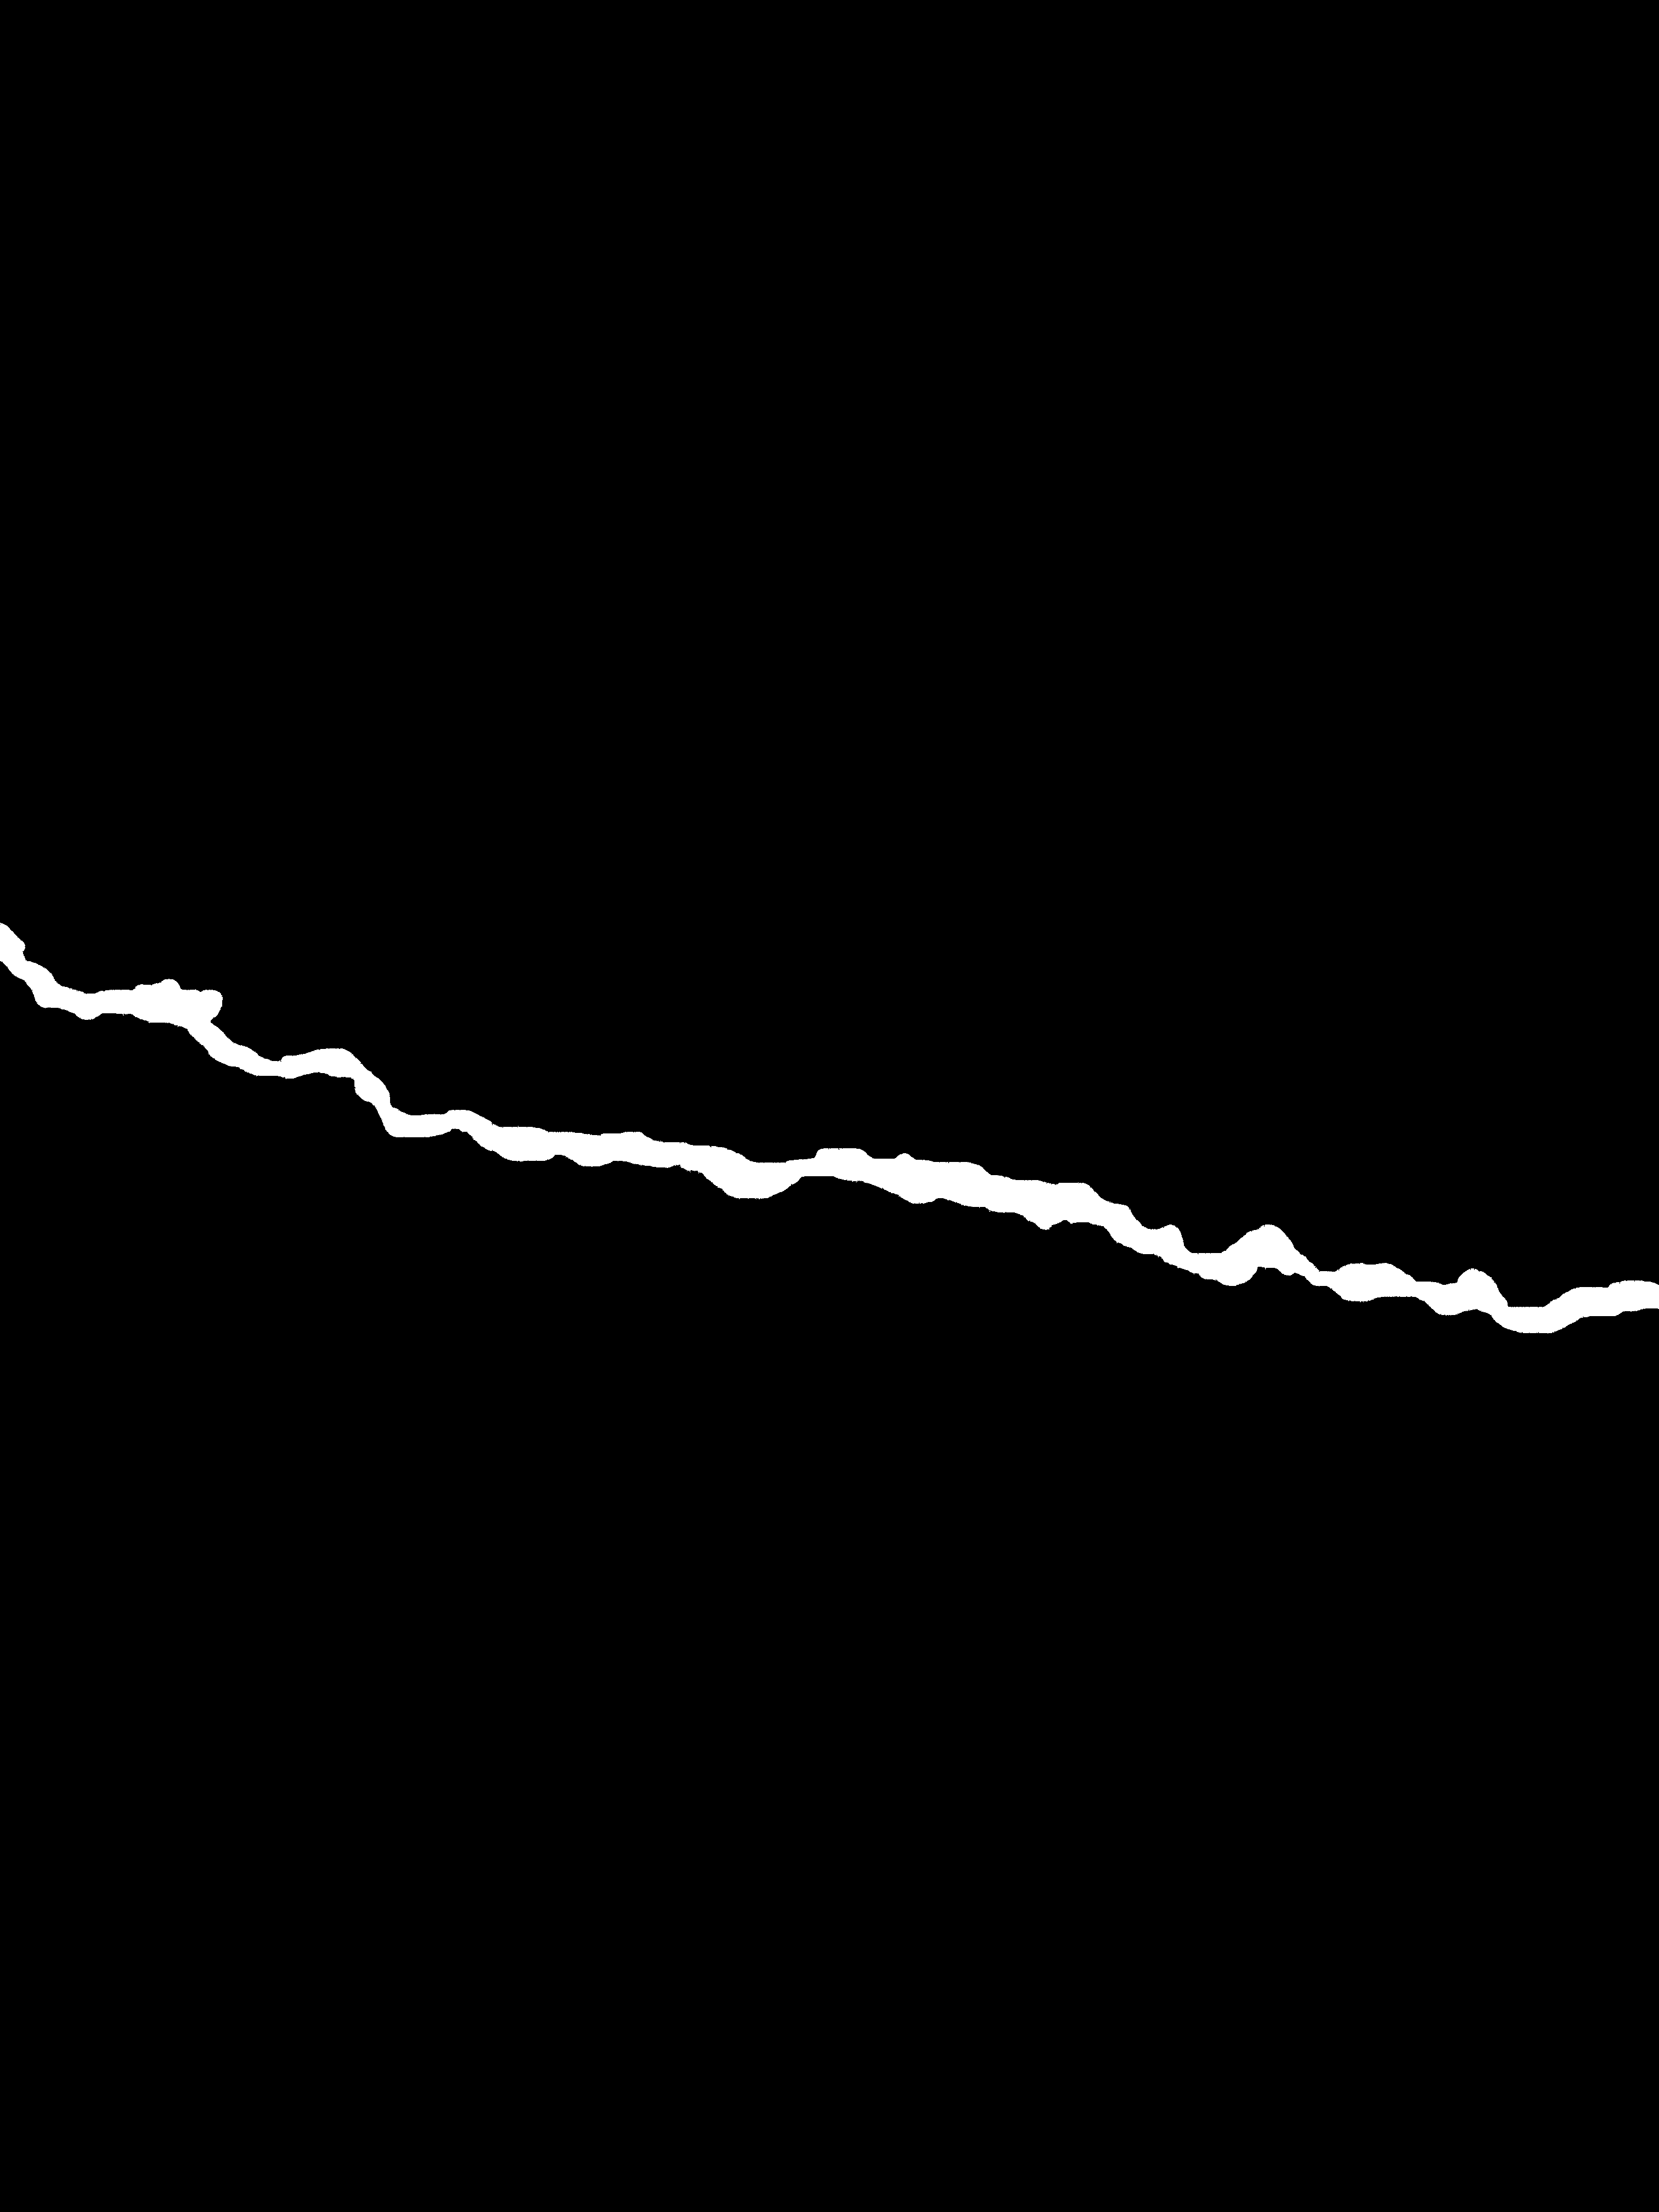Crack: (0, 904, 1659, 1360)
